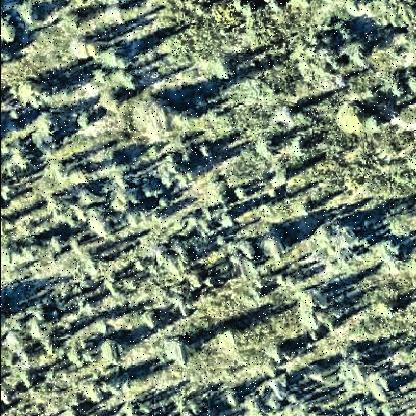tree-top: (305, 217, 369, 277), (292, 26, 344, 88), (133, 92, 185, 149), (249, 337, 291, 380), (296, 292, 336, 333), (17, 75, 57, 115), (373, 236, 407, 282), (85, 205, 123, 245), (344, 34, 376, 76), (383, 203, 415, 243), (340, 349, 372, 387), (257, 230, 289, 266), (336, 99, 366, 137), (163, 336, 195, 367), (36, 107, 62, 145), (100, 336, 129, 366), (366, 374, 395, 404), (99, 46, 133, 71), (387, 1, 416, 29), (17, 1, 45, 29), (212, 58, 239, 86), (289, 134, 313, 165), (103, 1, 129, 29), (274, 105, 300, 133), (65, 166, 96, 189), (257, 133, 283, 160), (8, 144, 34, 171), (220, 388, 248, 413), (182, 269, 209, 294), (94, 92, 124, 114), (2, 332, 30, 355), (389, 74, 409, 105), (81, 382, 106, 406), (61, 13, 85, 38), (126, 209, 150, 233), (239, 240, 261, 266), (77, 298, 99, 322), (45, 232, 67, 256), (1, 22, 21, 48), (349, 1, 371, 24), (307, 362, 327, 387), (70, 111, 92, 131), (193, 143, 215, 163), (232, 184, 252, 206), (140, 312, 163, 330), (369, 113, 386, 135), (219, 212, 237, 230)
